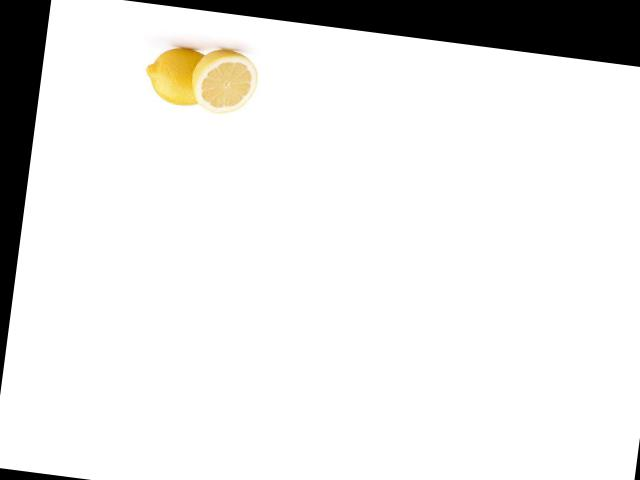lemon: (141, 36, 210, 112)
